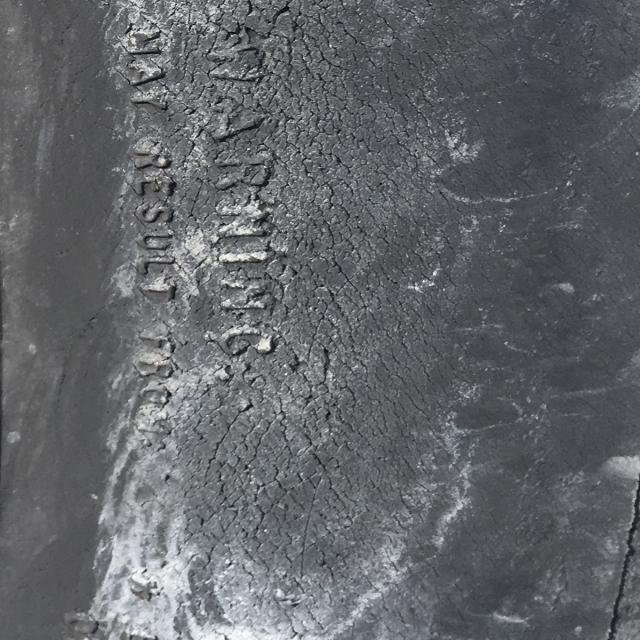Cracks: (93, 0, 513, 640), (584, 446, 639, 640)
